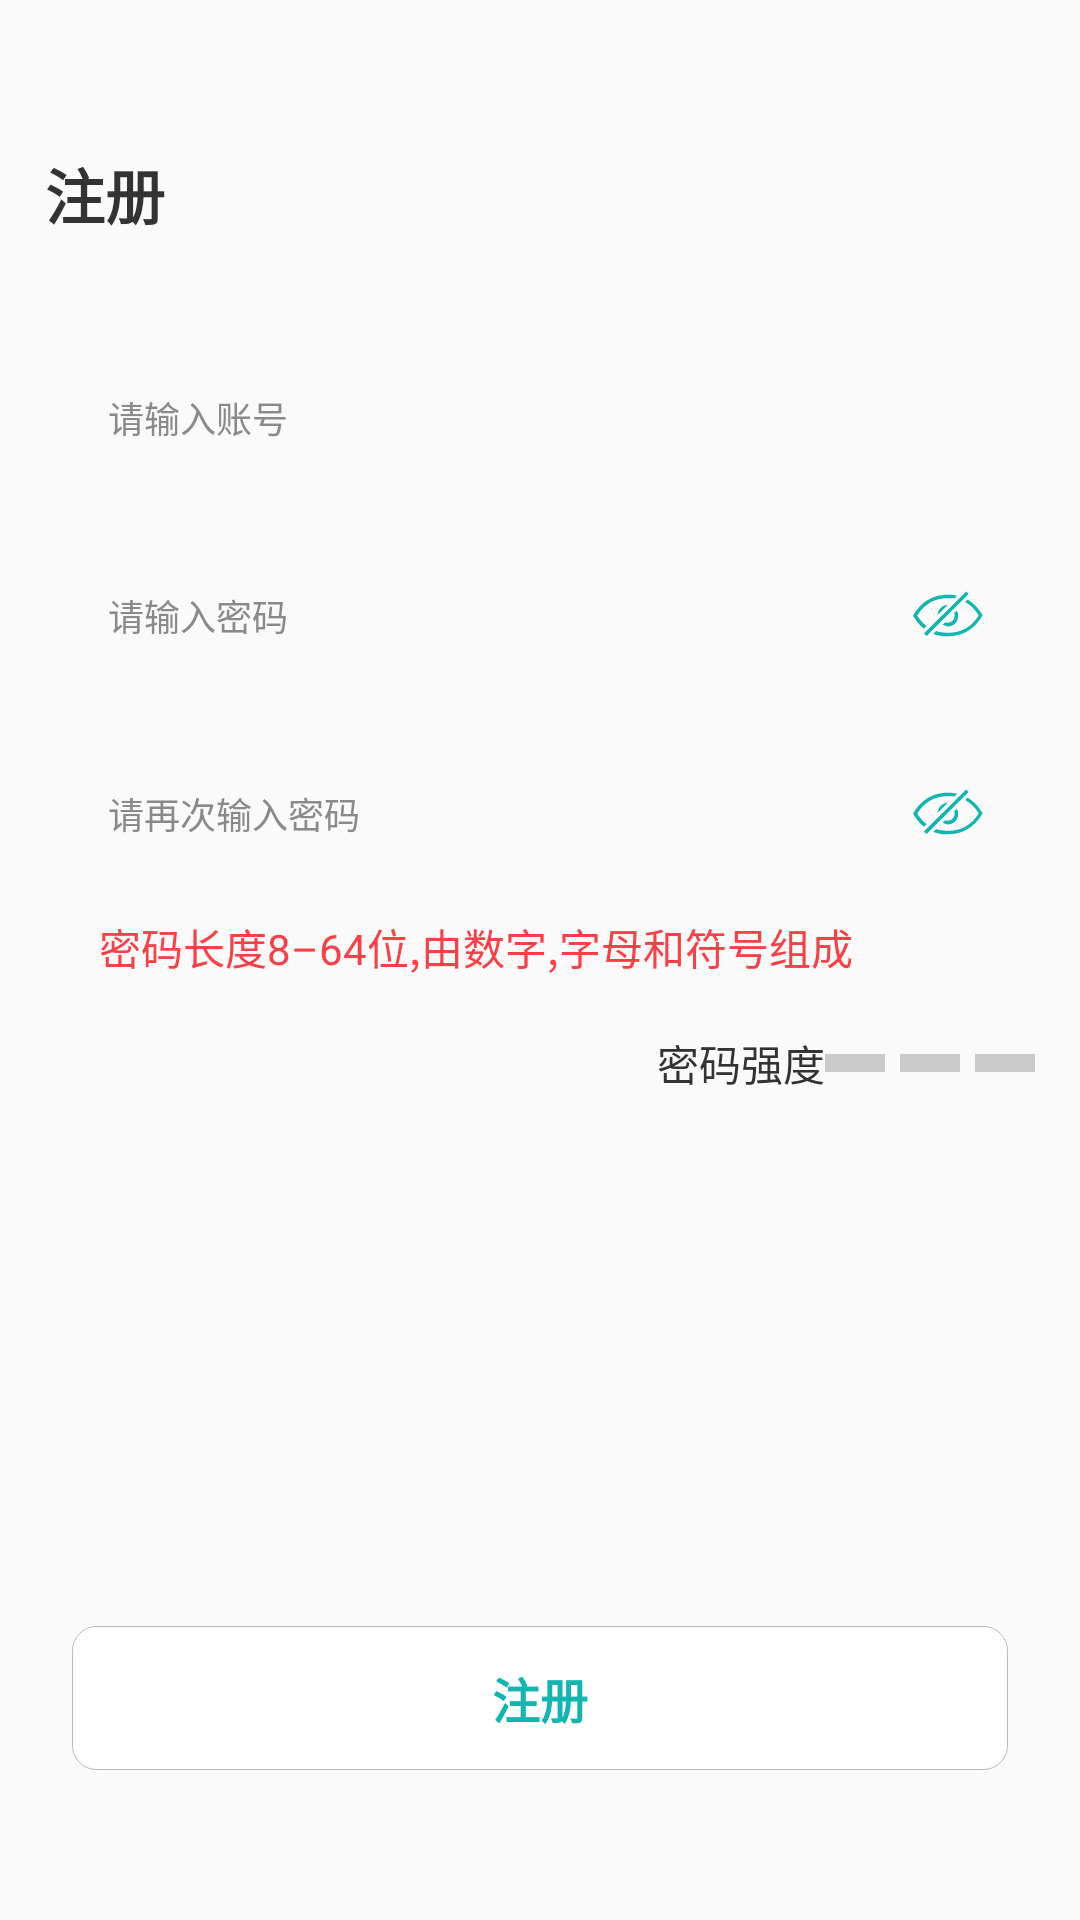

Named icons in this screenshot (1080 × 1920) and their bounding boxes, (x1, y1, x2, y2):
password eye: (913, 591, 983, 637), (913, 789, 983, 835)
